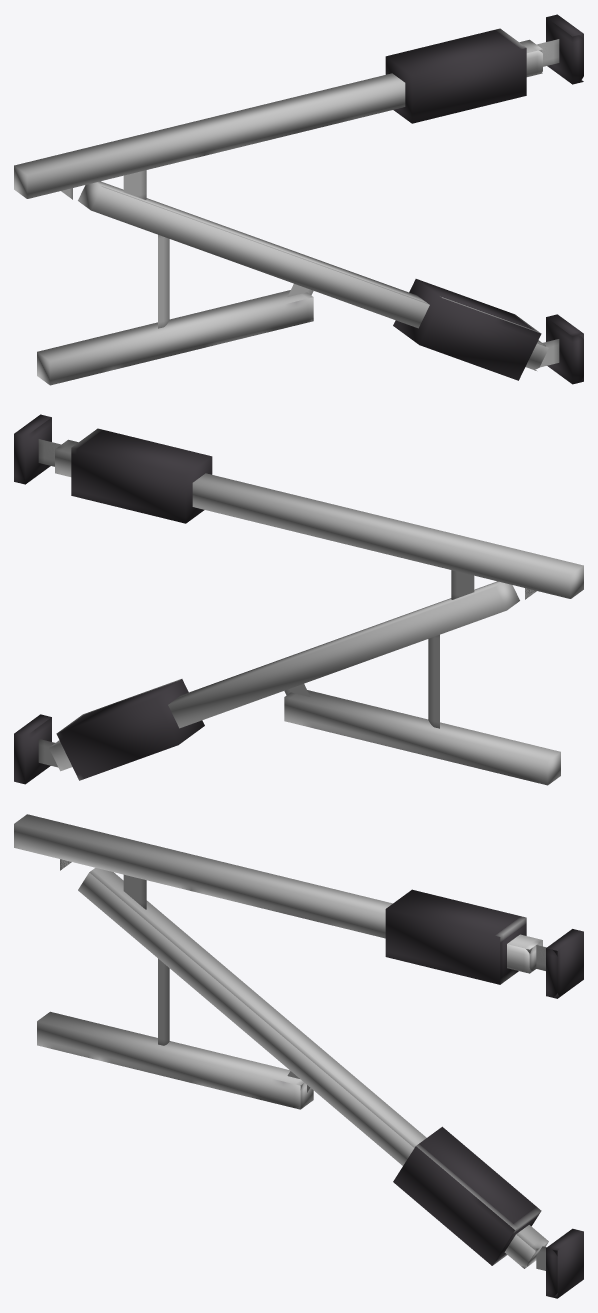
The model's file is cantilever.obj.
3 views of the same model, one above another, from view 1: azimuth 30°, elevation 25°; view 2: azimuth 150°, elevation 25°; view 3: azimuth 330°, elevation 25° (orthographic).
Parts seen in each view (by area): view 1: cube.051; view 2: cube.051; view 3: cube.051.
Boxes of the visible parts, <box> form: cube.051: <box>14,14,583,385</box>; cube.051: <box>14,414,583,785</box>; cube.051: <box>14,814,583,1298</box>.
Bounding box in the file's own units: 3 × 1.81 × 0.25.
